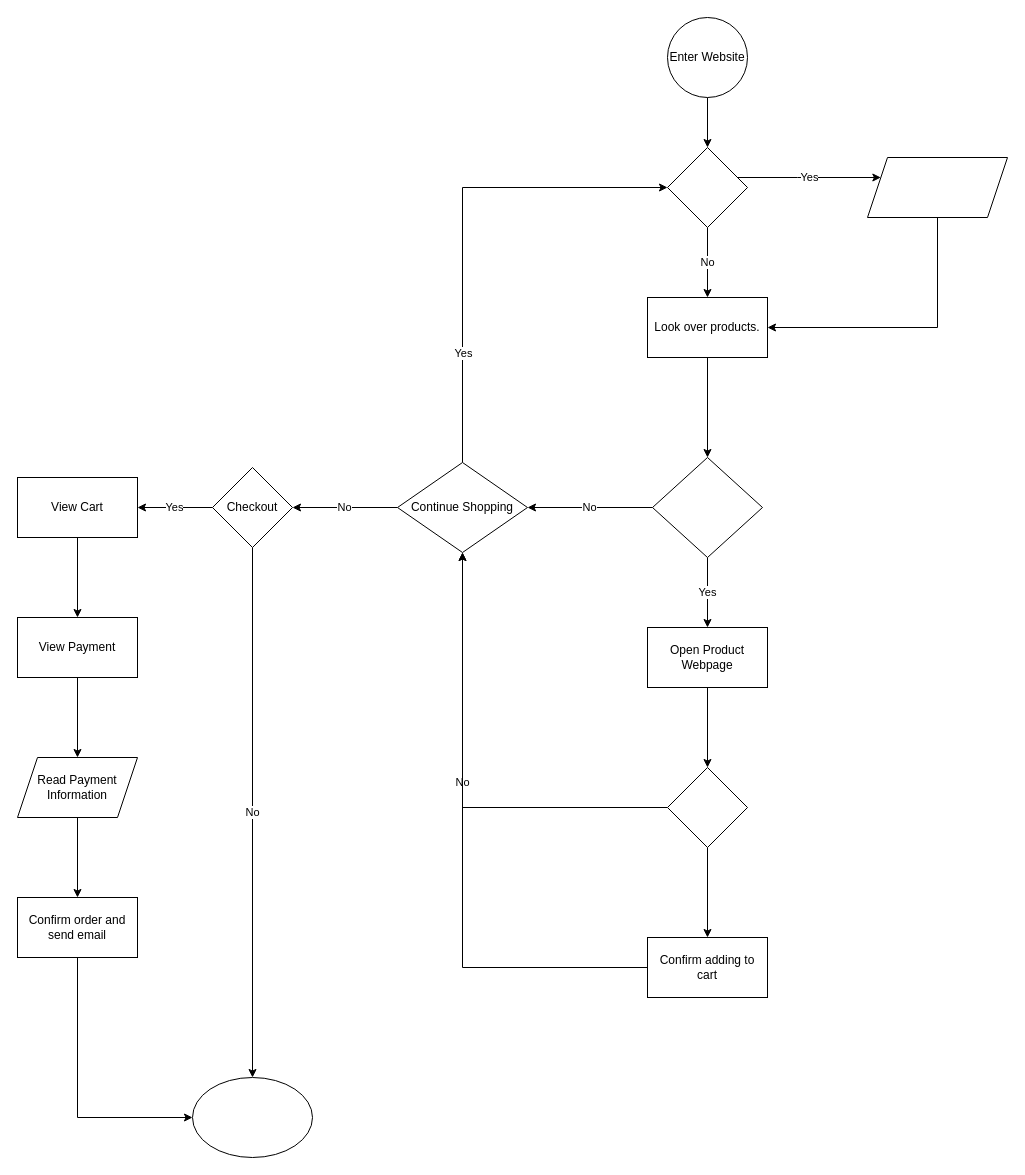
Some shapes in this 1025 by 1175 pixel diagram are drawn without their labels. The shapes that lost their labels are listed below. From the top down, each one's box as (x1, y1, x2, y2) in pixels, then its label:
(666, 146, 748, 228): Search Product
(866, 156, 1008, 218): Read input.
(652, 456, 762, 558): View specific product
(666, 766, 748, 848): Add to Cart
(192, 1076, 312, 1158): Leave Website
